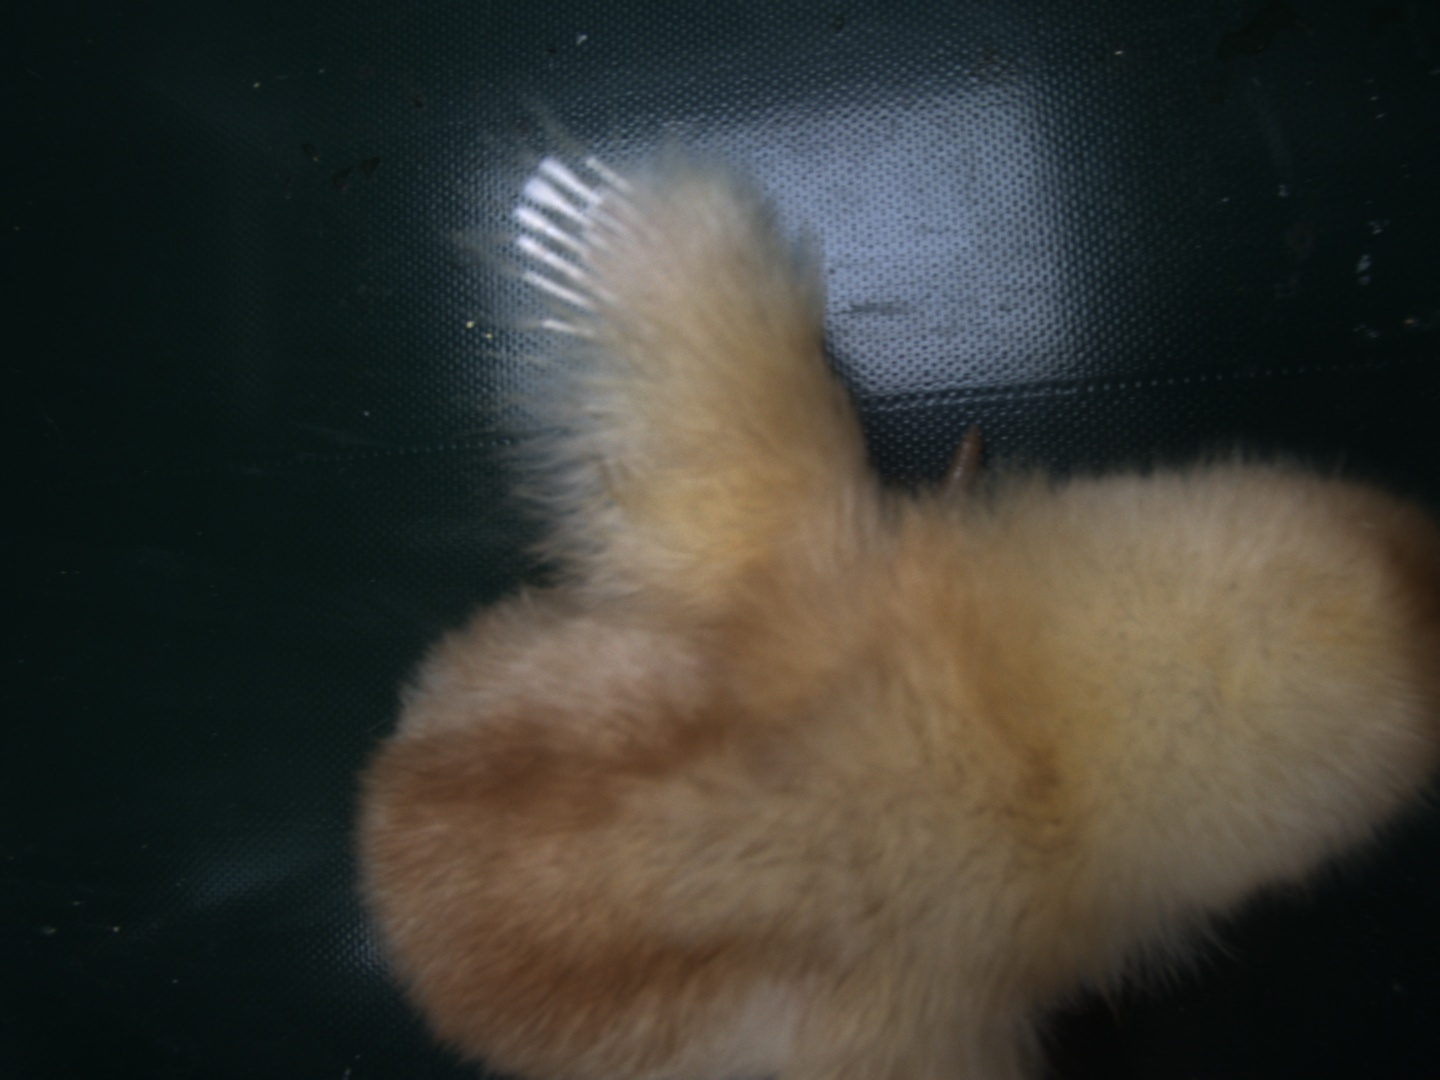female: (508, 145, 651, 345)
